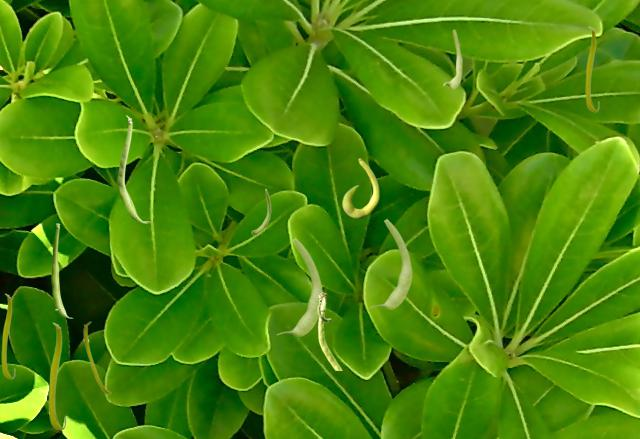french_bean: (276, 237, 322, 335), (369, 218, 411, 308), (118, 115, 150, 222), (342, 158, 378, 217), (51, 223, 72, 317), (83, 321, 110, 393), (317, 292, 341, 369), (48, 322, 65, 429), (1, 293, 14, 378), (585, 26, 598, 111), (443, 29, 461, 88), (251, 188, 270, 234)
